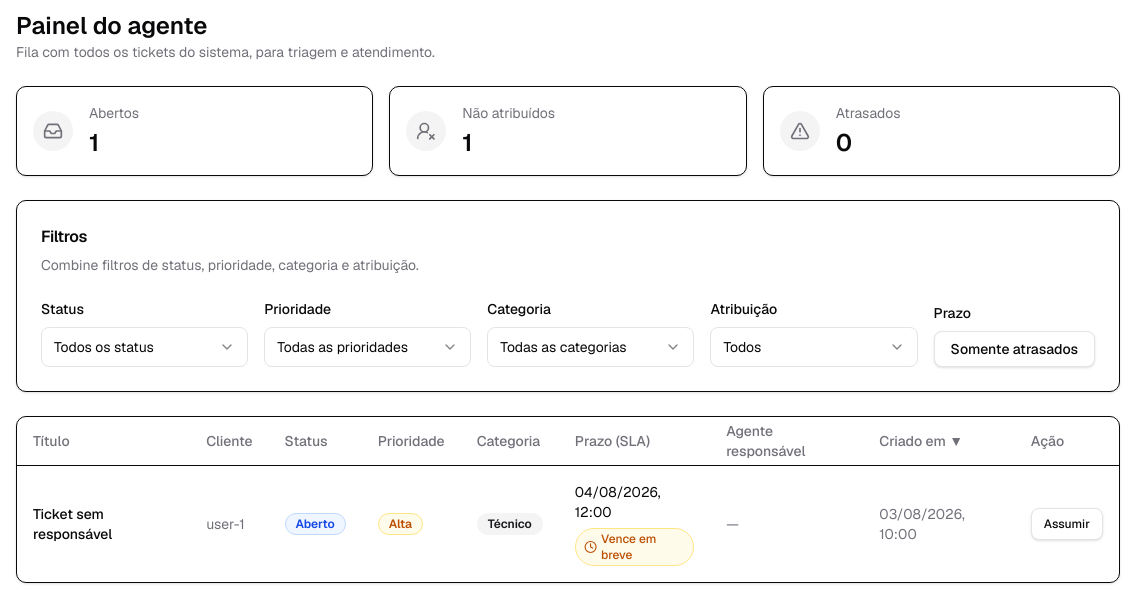
Scenario: PainelAgentePage (SPEC-08) › ação "Assumir" atribui o ticket ao agente logado e atualiza a linha sem reload completo (RF04)
Click the button "Assumir" at (1067, 524), box [1031,508,1103,540]
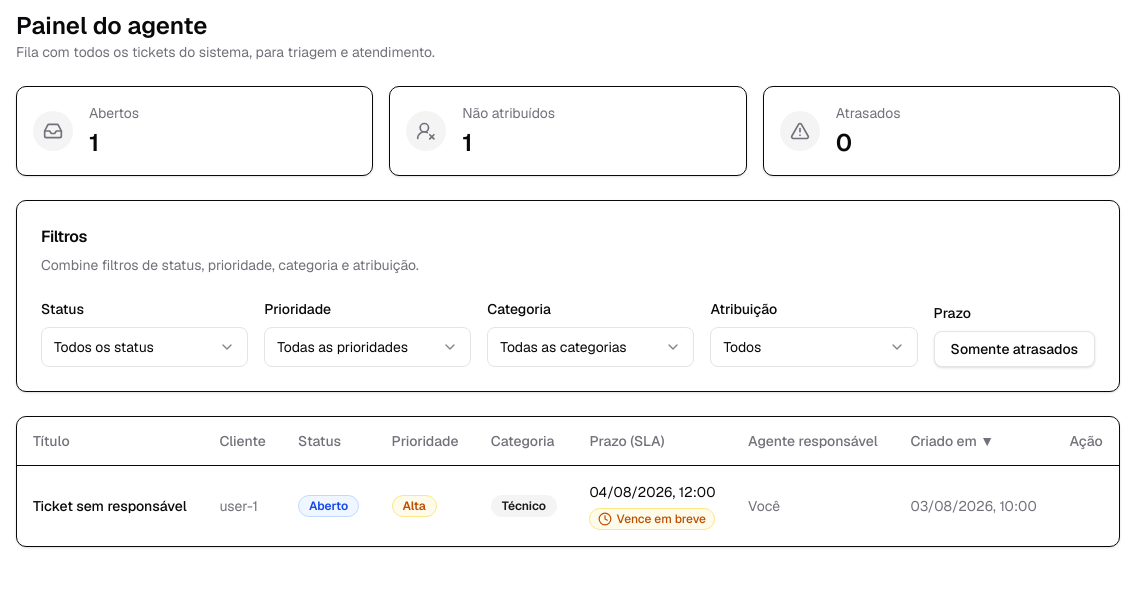
Check: no buttons "Assumir" are shown
Check: the text "Você" is shown, box [732,465,894,546]
